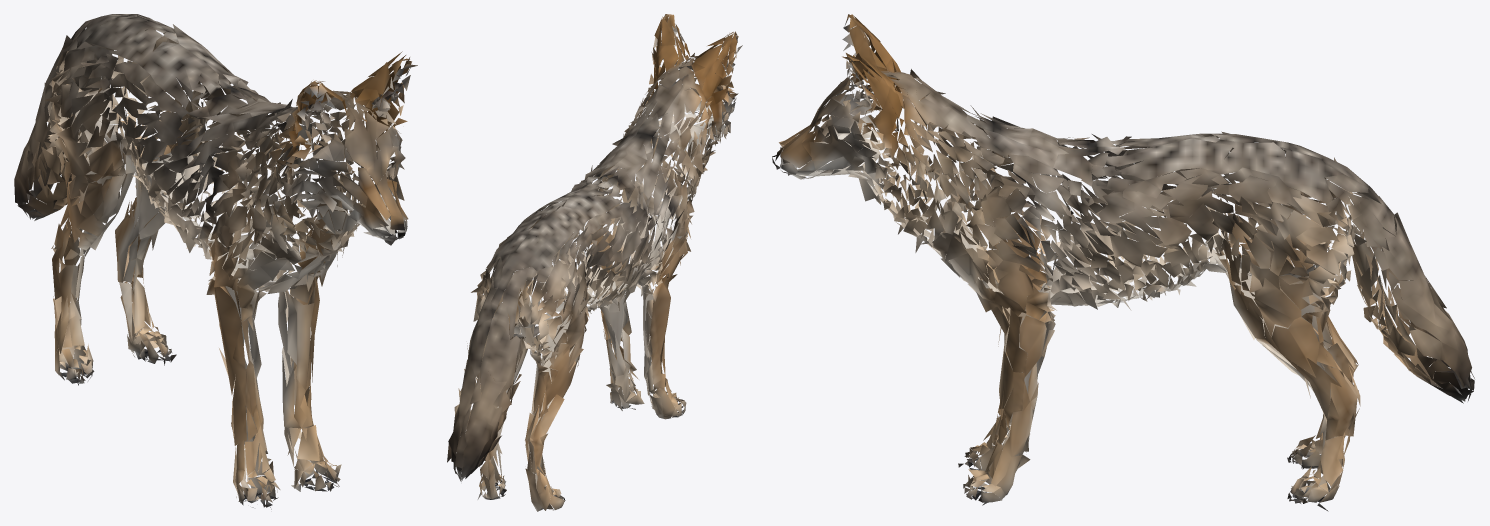
File: coyote.glb
3 renders of one model, left to right at view 1: azimuth 30°, elevation 25°; view 2: azimuth 150°, elevation 25°; view 3: azimuth 270°, elevation 25°, orthographic. The views are drawn at different scales.
Parts seen in each view (by area): view 1: LO.001; view 2: LO.001; view 3: LO.001.
Boxes of the visible parts, x1=… form: LO.001: x1=14, y1=14, x2=417, y2=509; LO.001: x1=447, y1=14, x2=742, y2=511; LO.001: x1=772, y1=14, x2=1474, y2=511.
Size of the model in its own units: 0.3784 by 1.36 by 1.9.
1 material, 1 textured.
